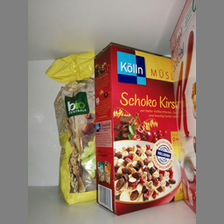cereal: (94, 43, 186, 217), (57, 81, 94, 205)
